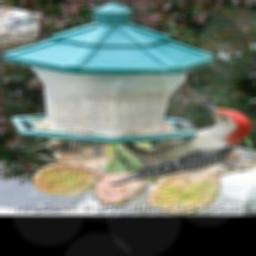Woodpecker: (108, 100, 252, 185)
